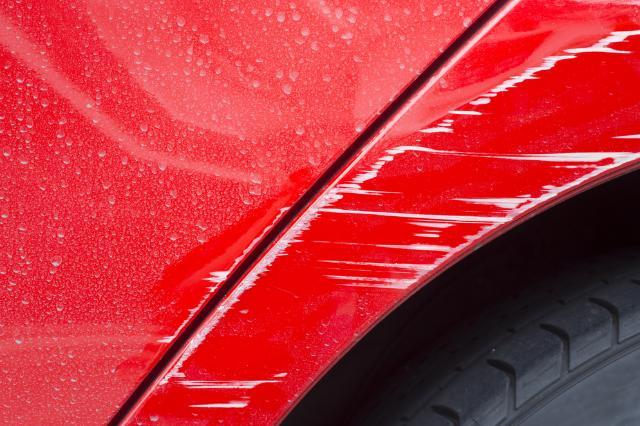Fender: (121, 6, 640, 426)
